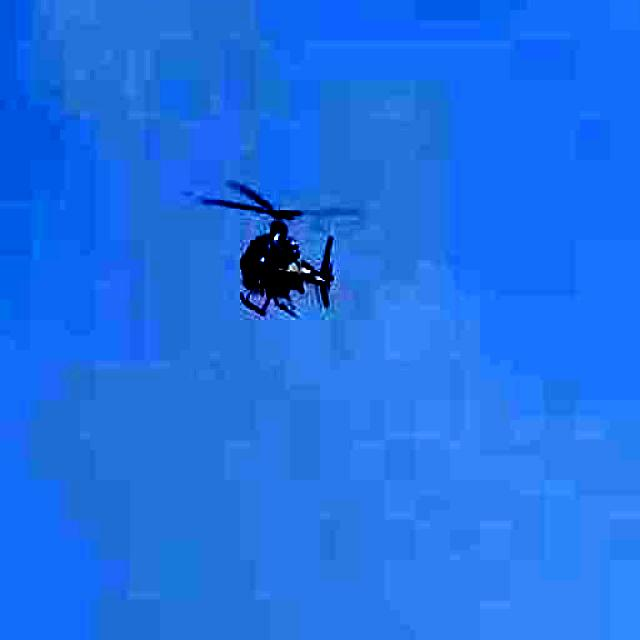drone: (159, 149, 389, 349)
